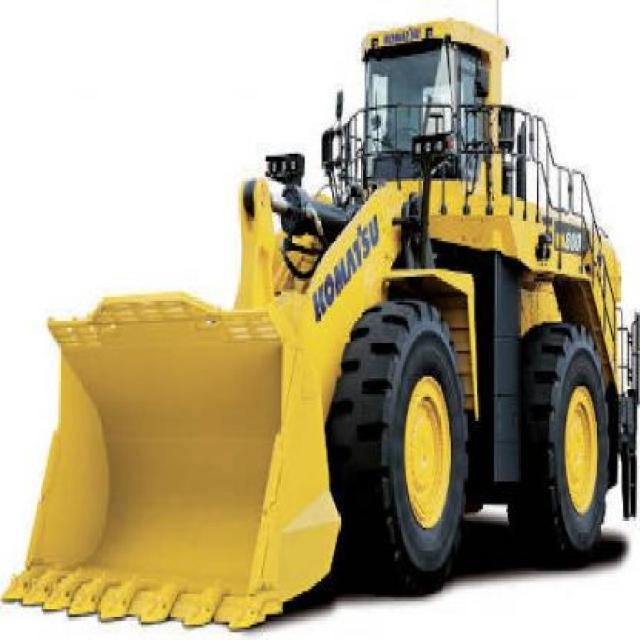buldozerpayloadergrader: (18, 6, 640, 603)
